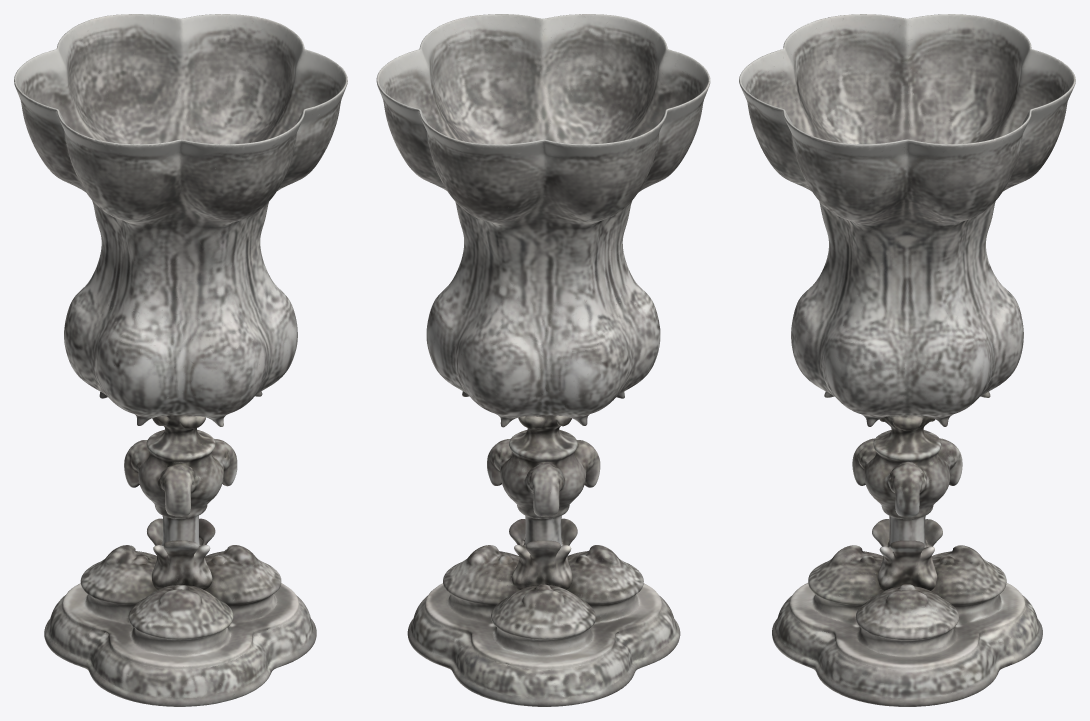
File: 03_silvercup_symtrellis.glb
3 renders of one model, left to right at view 1: azimuth 30°, elevation 25°; view 2: azimuth 150°, elevation 25°; view 3: azimuth 270°, elevation 25°, orthographic.
Parts seen in each view (by area): view 1: world; view 2: world; view 3: world.
Part boxes in pixels (x1,y1,x2,y2): world: (14,14,347,706); world: (376,14,710,706); world: (739,14,1075,706).
Size of the model in its own units: 0.4919 by 0.9963 by 0.5349.
Materials: 1 (1 with a texture image).
